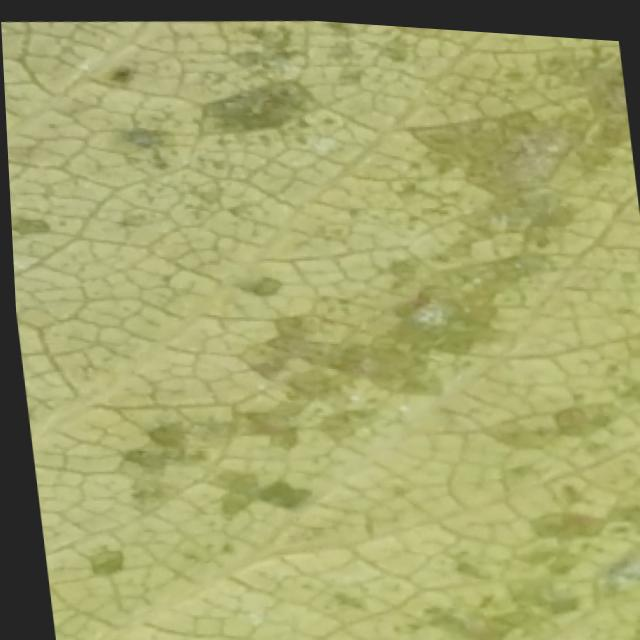Angular Leafspot: (7, 16, 640, 640)
